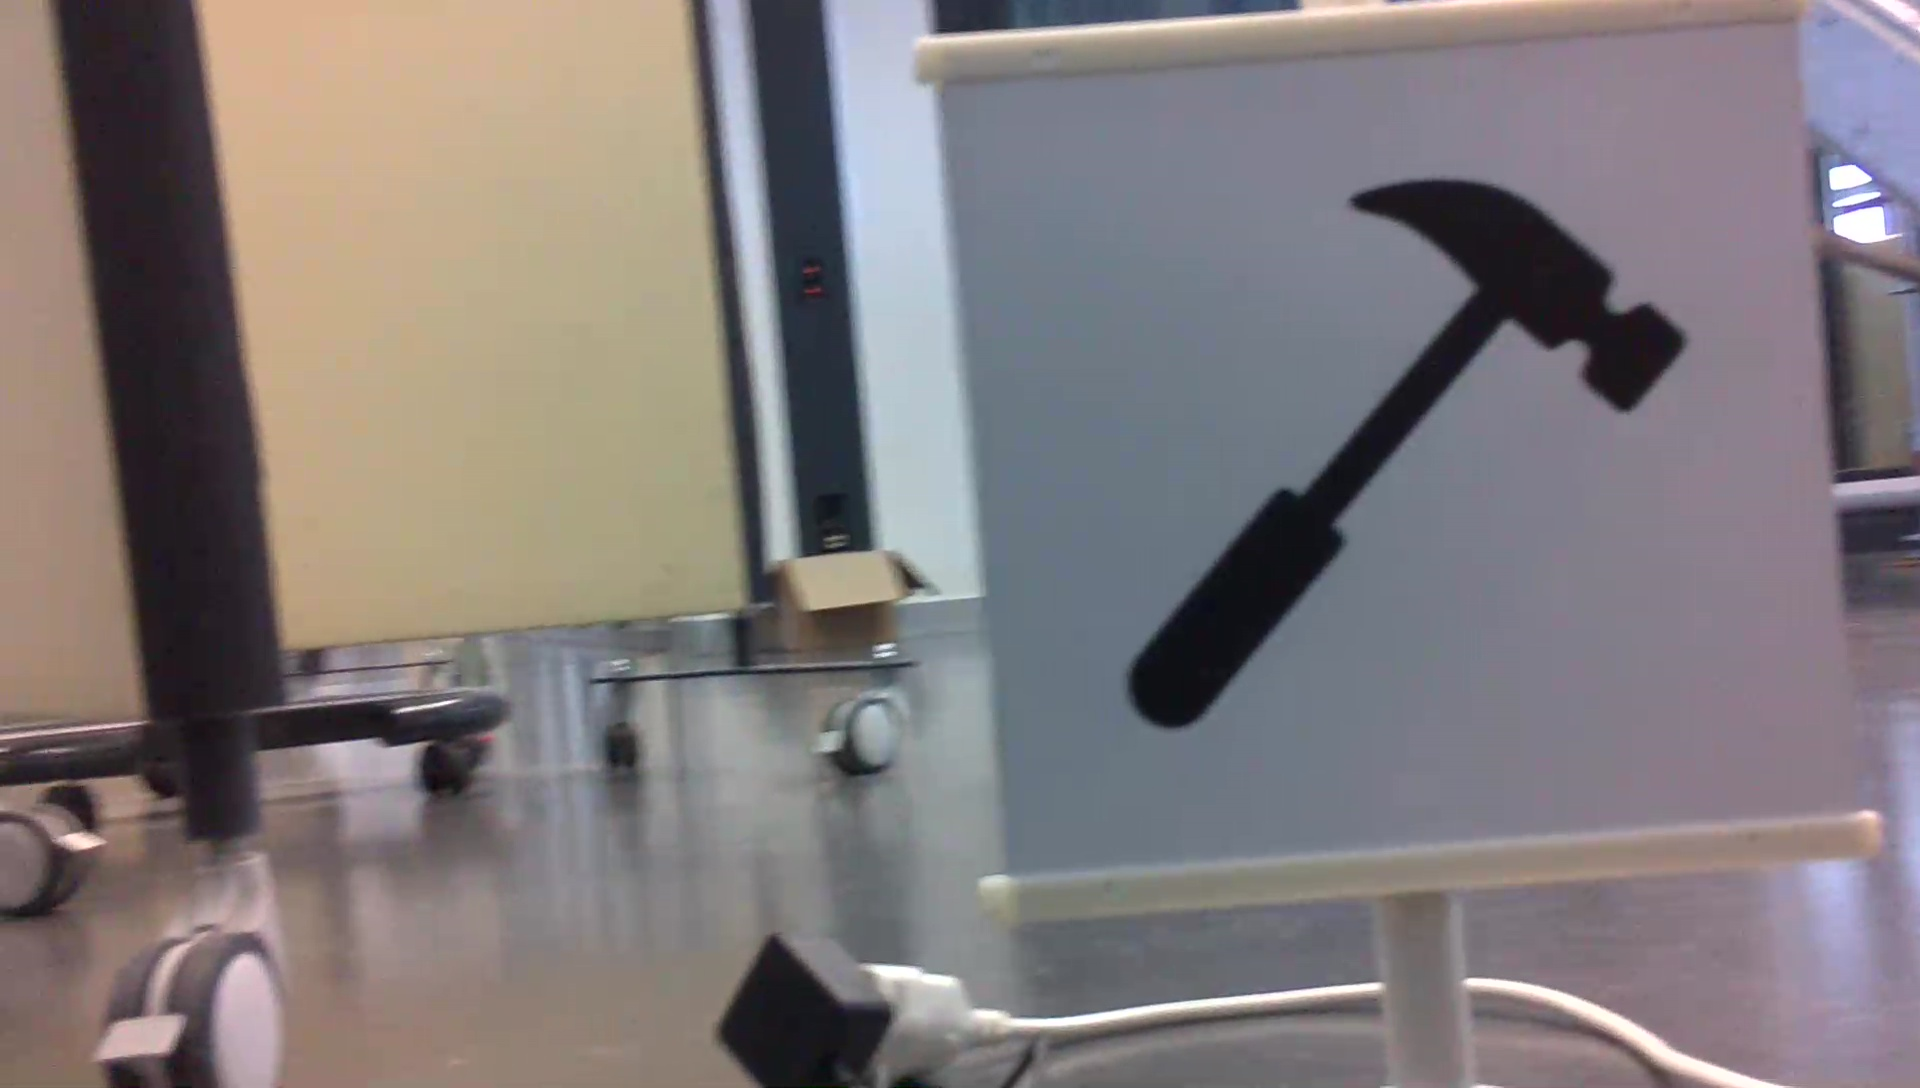hammer: (1108, 165, 1692, 737)
